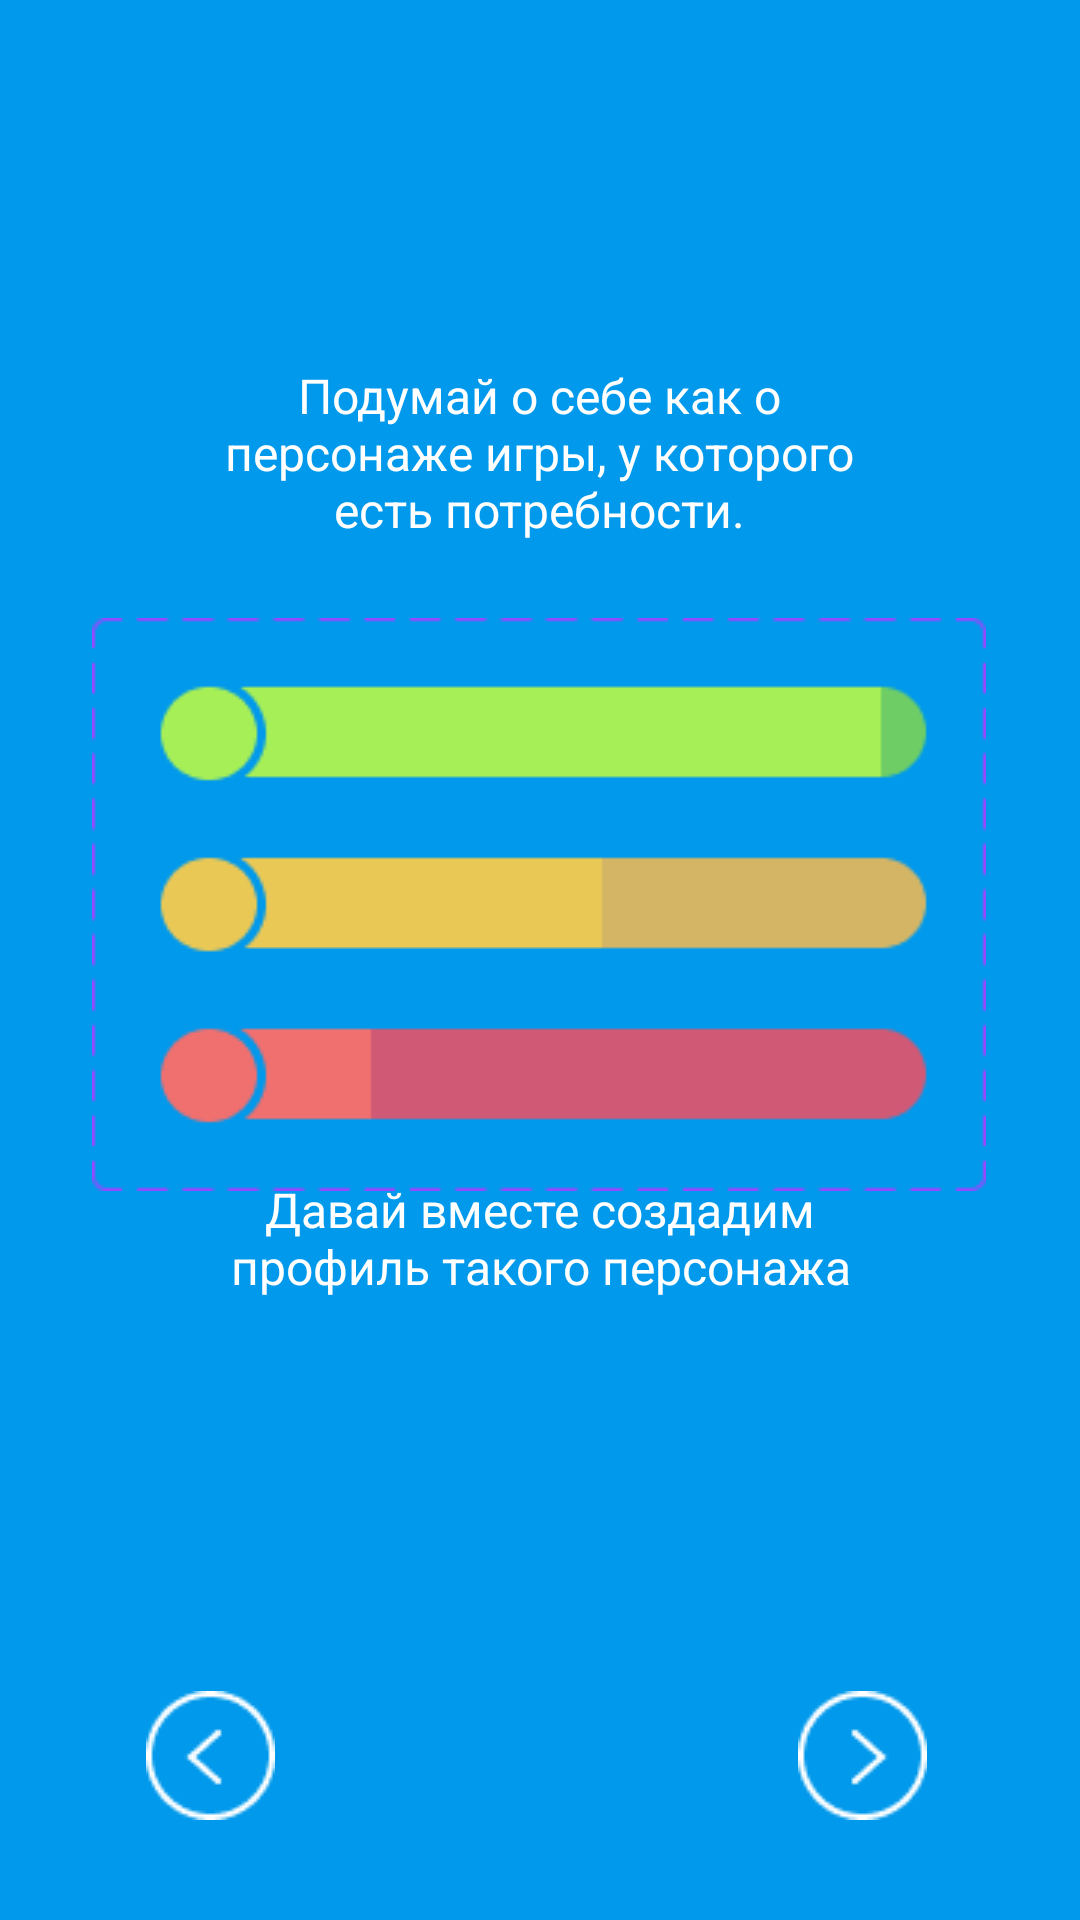

Named icons in this screenshot (1080px×1920px) and their centers, [x,y]:
back: [210,1755]
forward: [862,1755]
